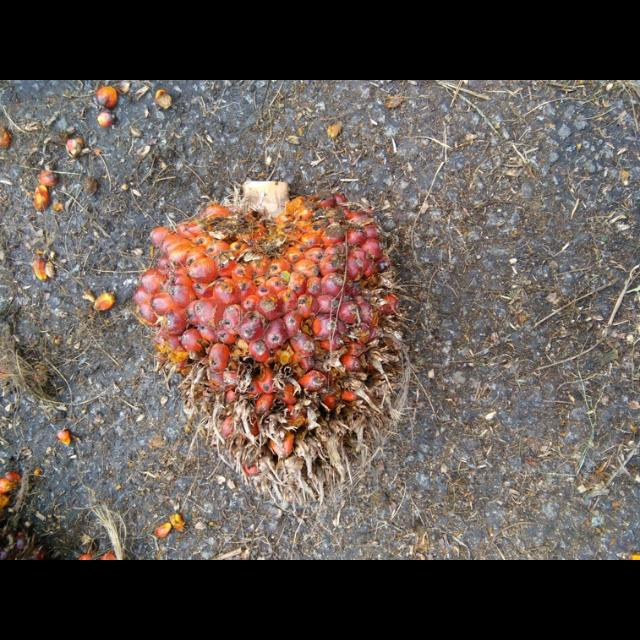Ripe: (138, 190, 417, 489)
